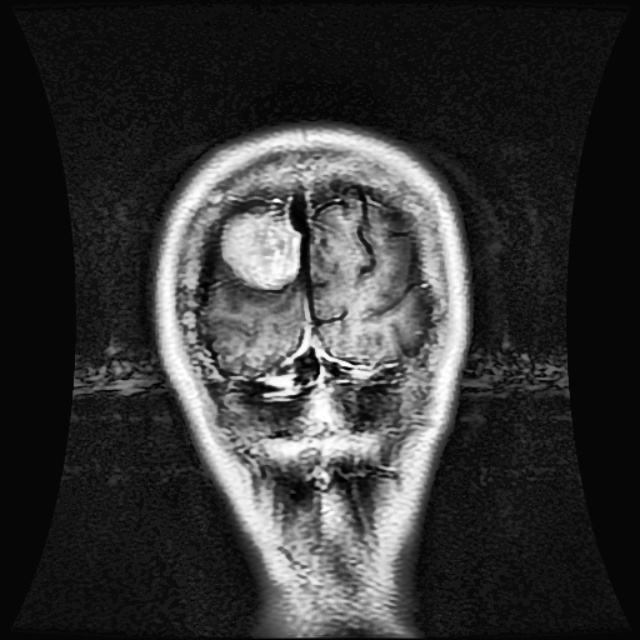Glioma: (217, 202, 302, 290)
